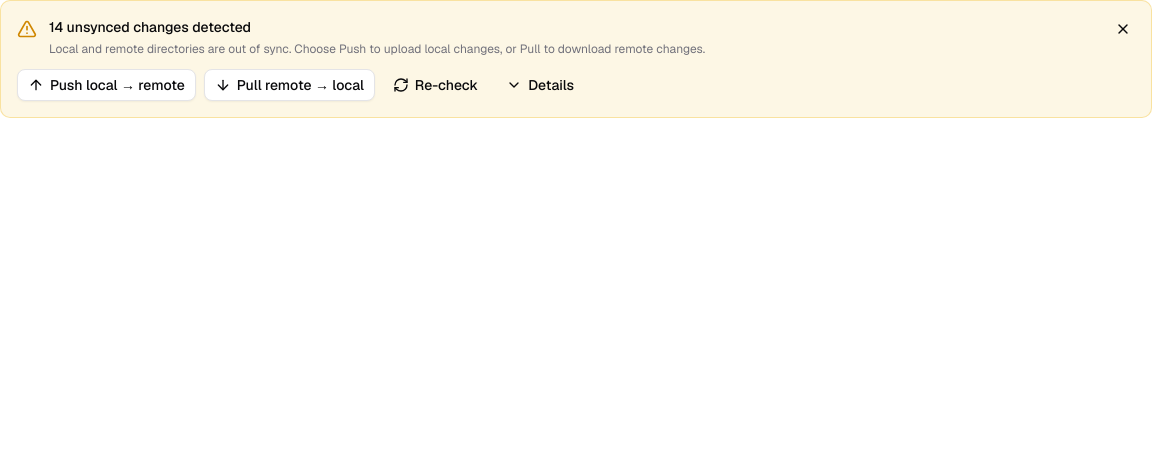
it: PendingChangesBanner › checks nothing until the details are expanded, then lists the files per category
Click the button "Details" at coordinates (540, 85), box left=496, top=69, right=584, bottom=101
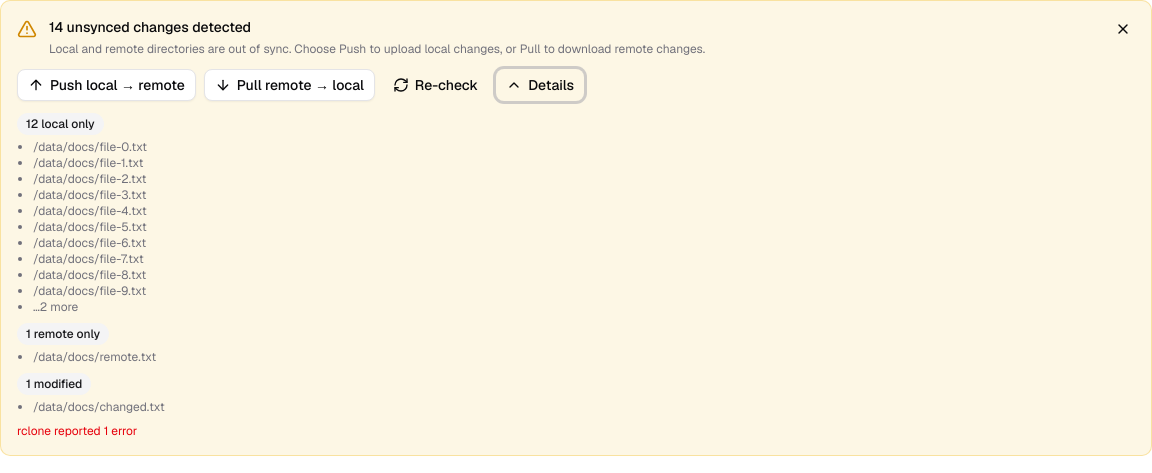
Expected: the text "12 local only" is shown, left=17, top=113, right=104, bottom=135
Expected: the text "1 remote only" is shown, left=17, top=323, right=109, bottom=345
Expected: the text "1 modified" is shown, left=17, top=373, right=91, bottom=395
Collapsing hides the list again.
Click the button "Details" at coordinates (540, 85), box left=496, top=69, right=584, bottom=101
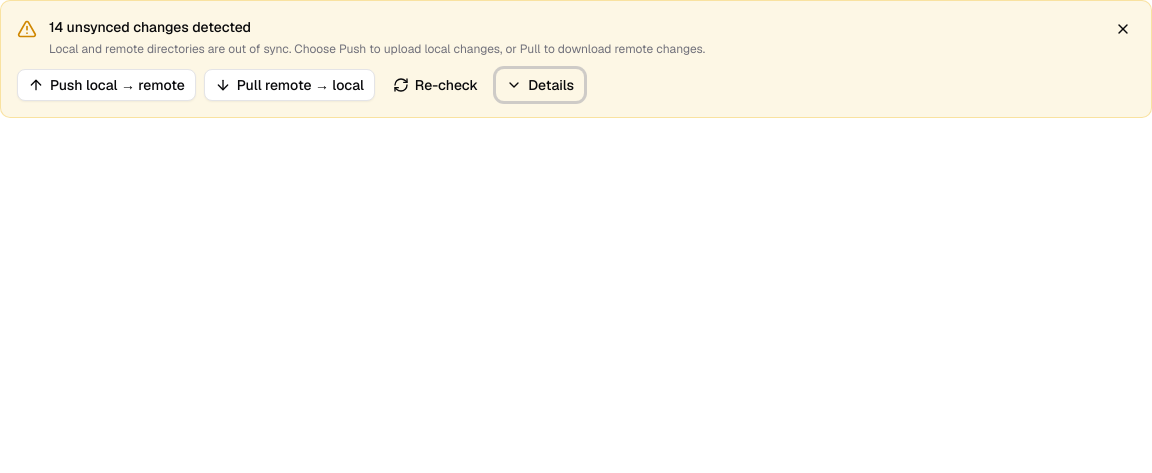
Expected: the text "12 local only" is gone
